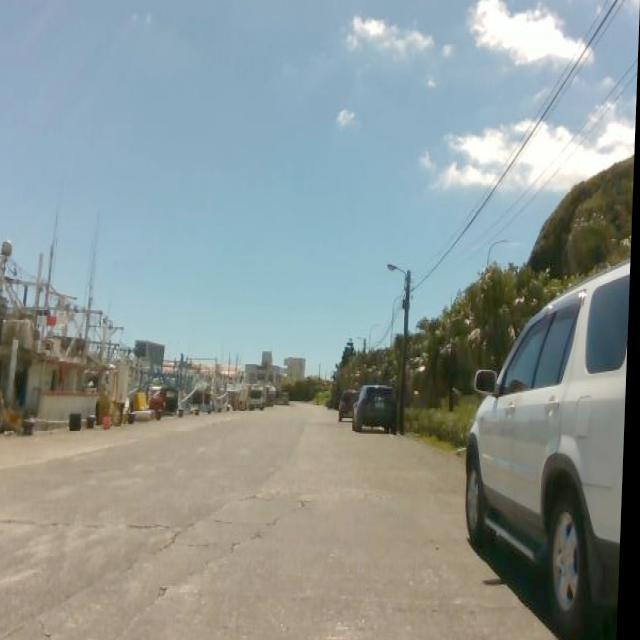pollute: (456, 447, 469, 458)
